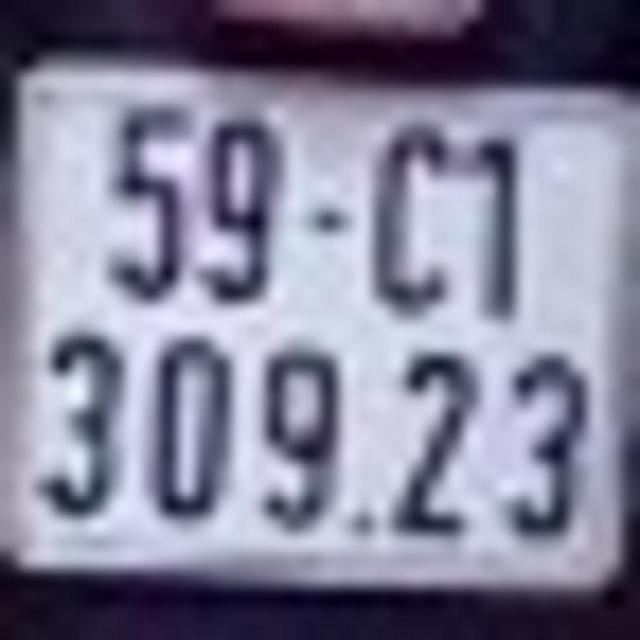0: (144, 326, 243, 524)
1: (466, 124, 530, 320)
2: (397, 346, 480, 540)
3: (37, 326, 127, 524), (502, 337, 589, 538)
5: (107, 98, 193, 305)
9: (256, 338, 339, 536), (200, 123, 274, 304)
C: (366, 104, 454, 322)
